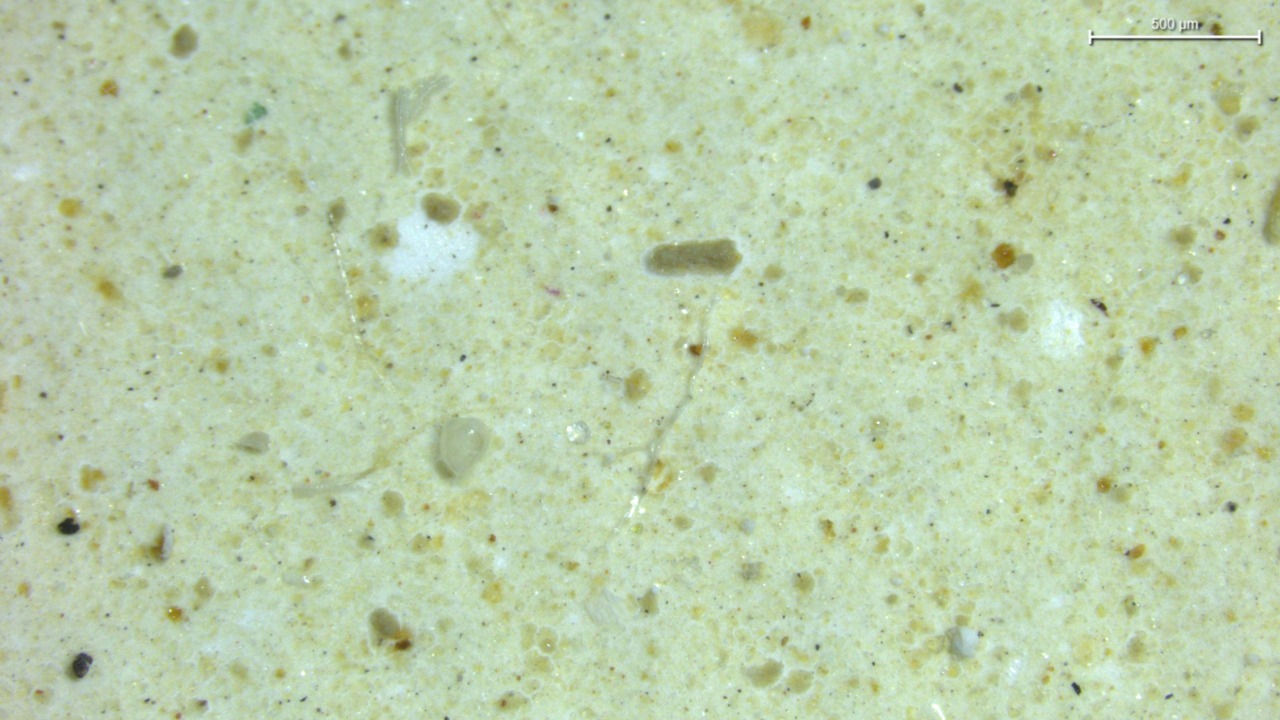microplastic_fragment: (389, 76, 449, 174), (433, 416, 492, 480), (946, 626, 980, 658)
